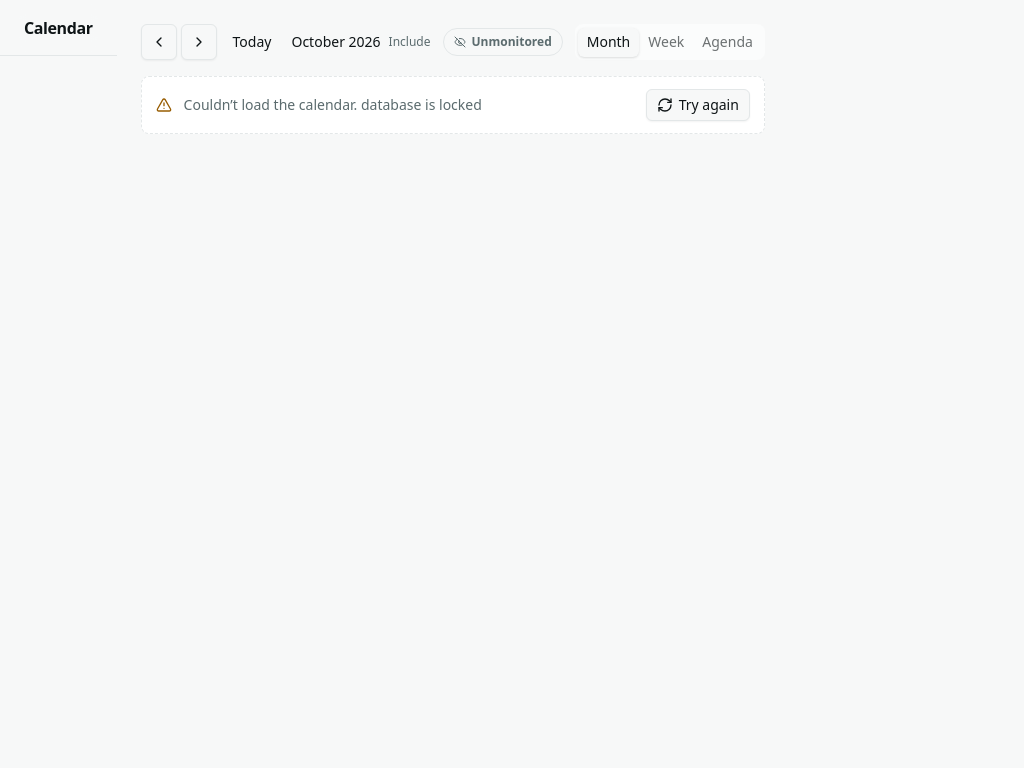
it: CalendarPage › reports a calendar that could not be loaded, with a retry
Expected: the text "Couldn’t load the calendar. database is locked" is shown, 184,95 -> 482,114
Click the button "Try again" at (698, 105), box 646,89 -> 750,121
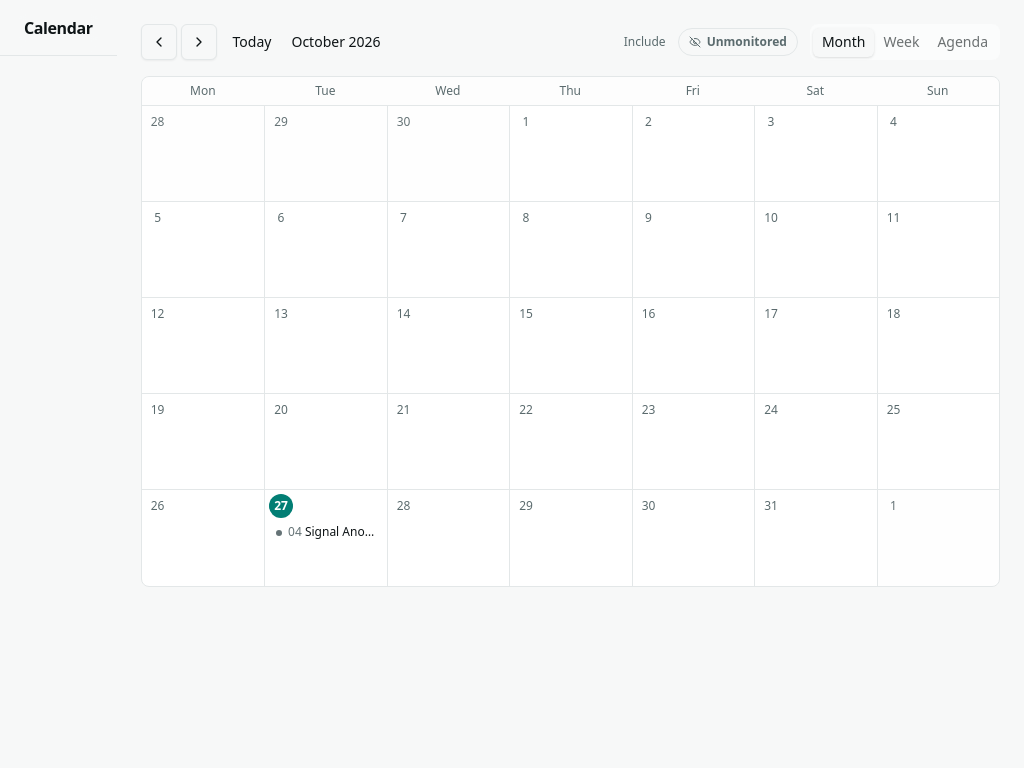
Expected: the link "04 Signal Anomaly" is shown, 269,520 -> 382,544
Expected: the text "Couldn’t load the calendar" is gone
